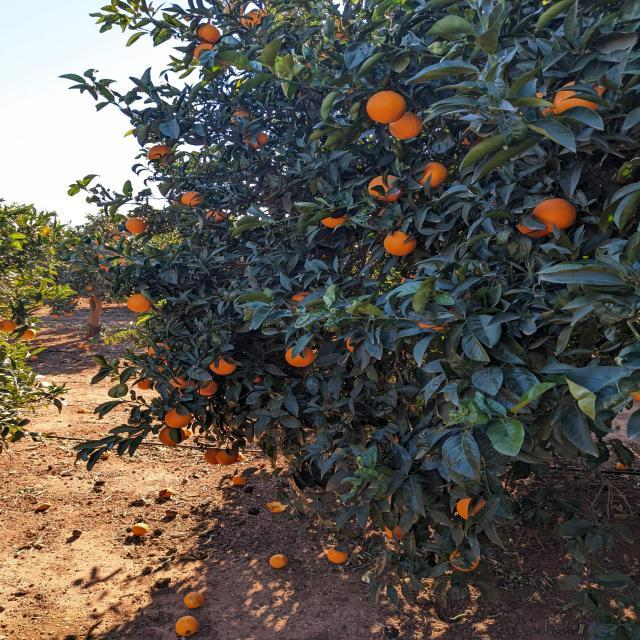Jeruk Sudah Matang: (555, 82, 605, 115), (365, 90, 405, 123), (536, 199, 576, 228), (388, 112, 424, 140), (416, 161, 448, 189), (368, 177, 405, 200), (384, 232, 417, 257), (448, 550, 481, 572), (284, 347, 316, 368), (456, 498, 486, 520), (166, 407, 193, 429), (196, 24, 223, 44), (210, 357, 238, 376), (160, 426, 183, 446), (128, 294, 152, 313), (290, 292, 314, 311), (322, 214, 352, 229), (149, 146, 174, 164), (242, 130, 266, 148), (191, 42, 215, 59), (196, 378, 218, 396), (418, 316, 446, 330), (242, 12, 264, 28), (217, 450, 239, 466), (126, 217, 147, 233), (334, 20, 350, 40), (230, 110, 254, 123), (184, 192, 206, 206), (384, 526, 406, 540), (204, 448, 221, 464), (0, 319, 18, 333), (346, 338, 359, 352), (20, 328, 36, 339), (172, 378, 188, 388)
